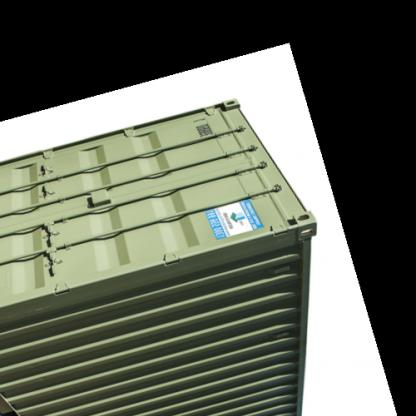Damage: (140, 340, 176, 388)
